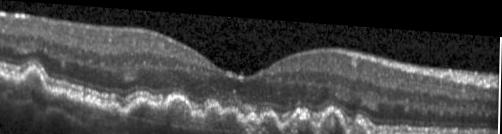retinal_drusen: (128, 95, 248, 131), (284, 108, 315, 134), (319, 108, 347, 134), (248, 111, 281, 130), (22, 68, 42, 91), (351, 117, 370, 134), (106, 103, 118, 113), (59, 91, 68, 98)
